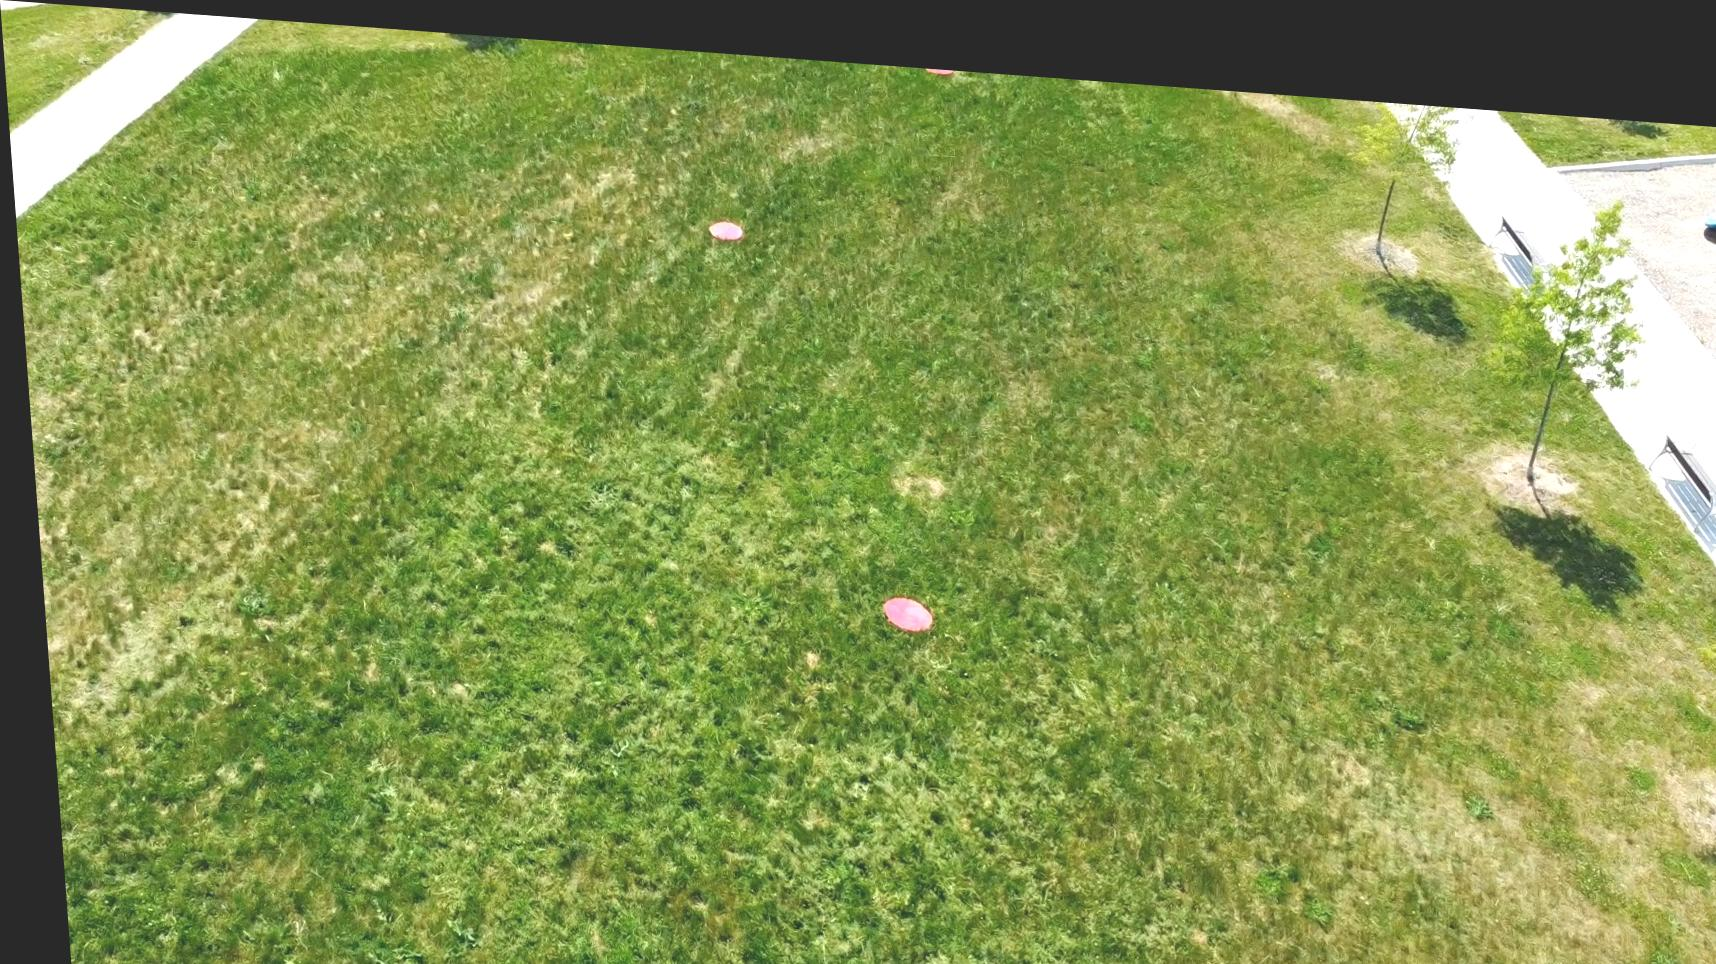Red: (872, 577, 929, 622), (704, 208, 741, 232), (922, 54, 955, 63)
